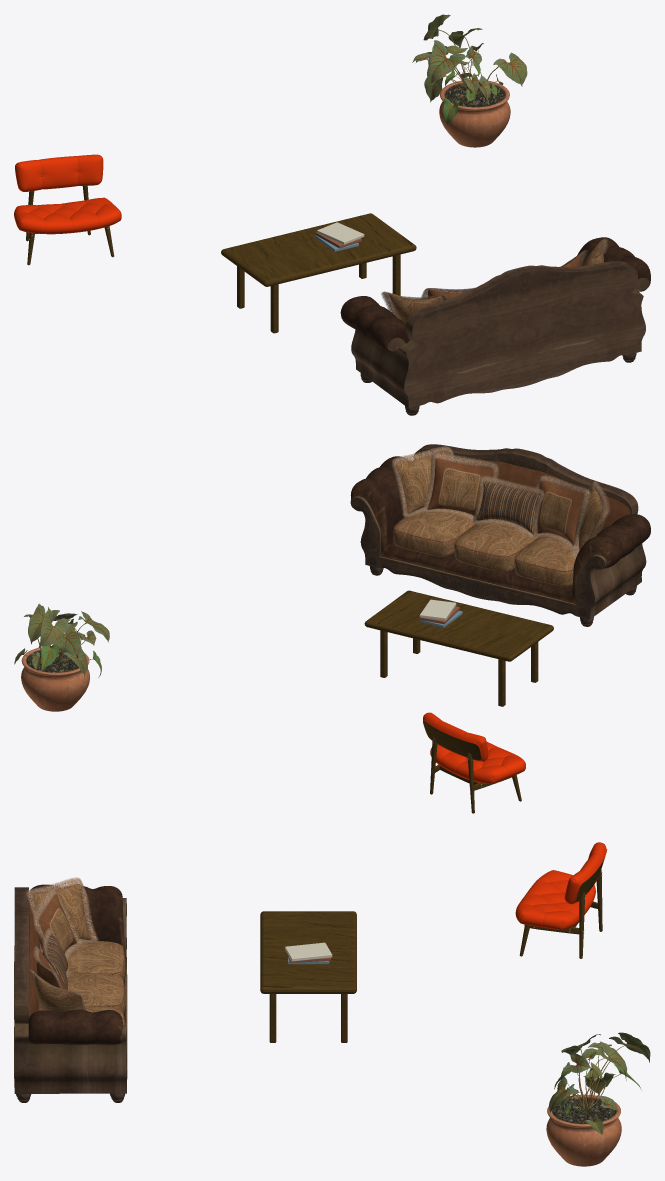
Rendered from SM_LivingFurniture.glb.
3 renders of one model, top to bottom at view 1: azimuth 30°, elevation 25°; view 2: azimuth 150°, elevation 25°; view 3: azimuth 270°, elevation 25°, orthographic. The views are drawn at different scales.
Visible parts, largest first — view 1: SM_LivingFurniture; view 2: SM_LivingFurniture; view 3: SM_LivingFurniture.
Part boxes in pixels (<box>): SM_LivingFurniture: <box>14,14,650,415</box>; SM_LivingFurniture: <box>14,444,650,813</box>; SM_LivingFurniture: <box>14,842,650,1166</box>.
Bounding box in the file's own units: 4.18 × 0.9223 × 4.28.
16 materials, 12 textured.
